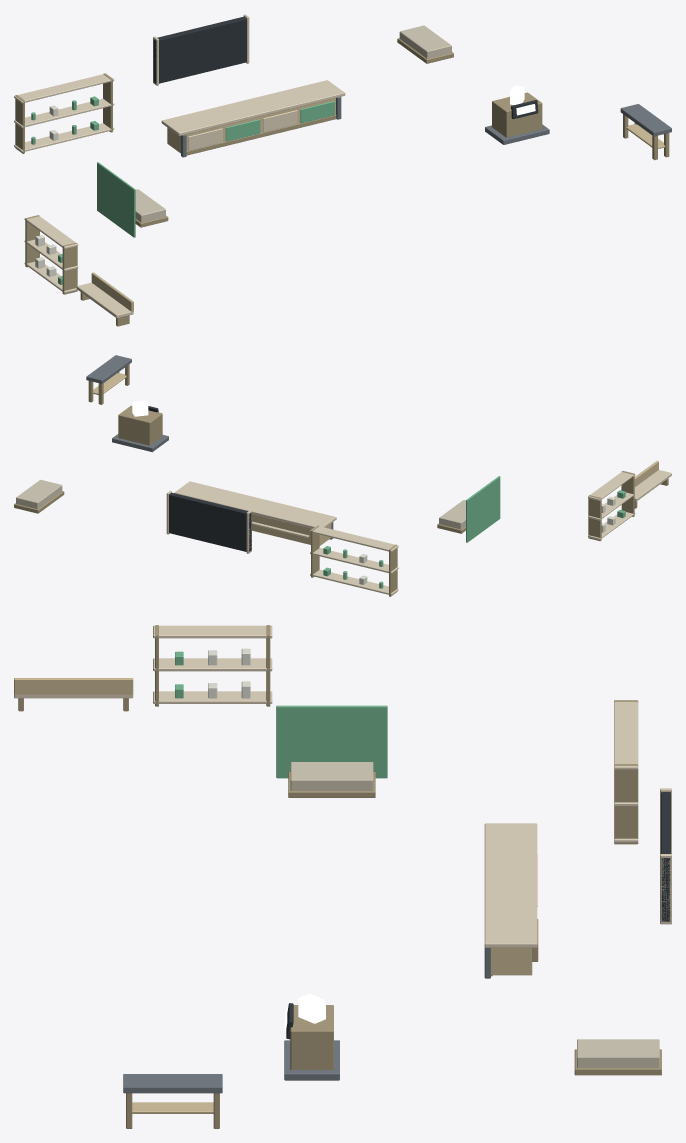
File: greenlamp_walk_in_clinic.lod1.glb
The picture shows the model from 3 angles, top to bottom: view 1: azimuth 30°, elevation 25°; view 2: azimuth 150°, elevation 25°; view 3: azimuth 270°, elevation 25°; orthographic projection. The views are drawn at different scales.
Size of the model in its own units: 25.8 by 2.76 by 16.55.
